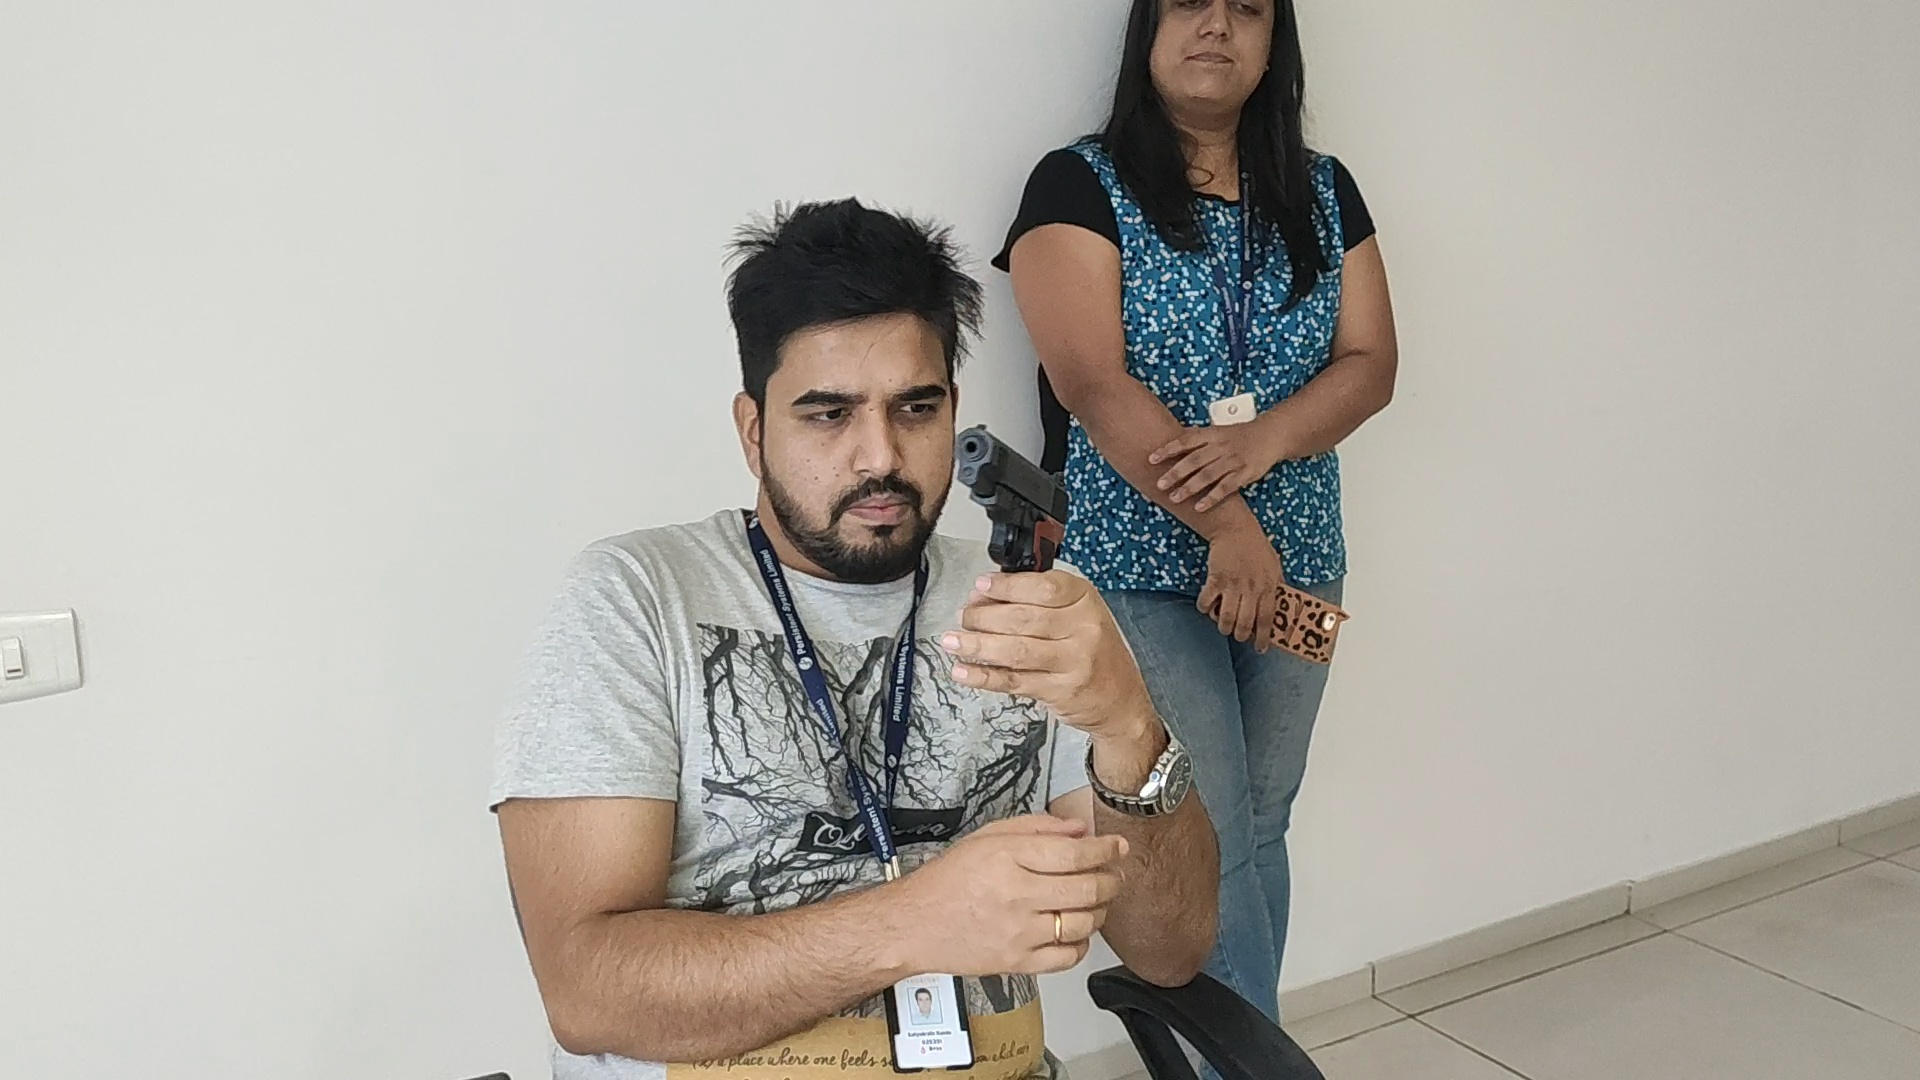gun: (956, 423, 1067, 568)
